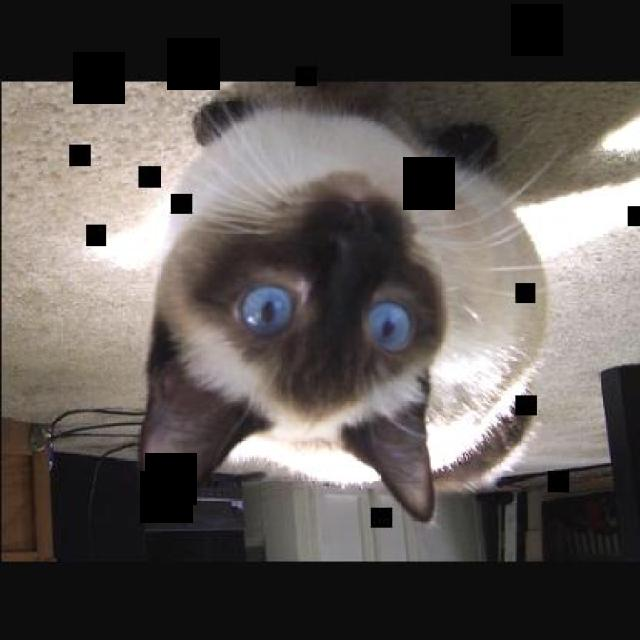unauthorized: (136, 88, 638, 522)
